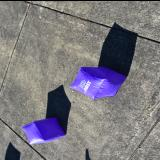cube: (70, 65, 126, 98), (22, 116, 66, 143)
